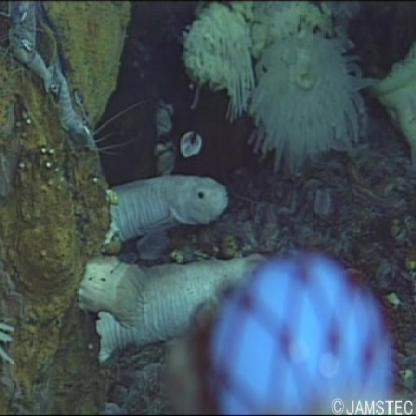Bio: (70, 173, 269, 364), (1, 1, 112, 164)
